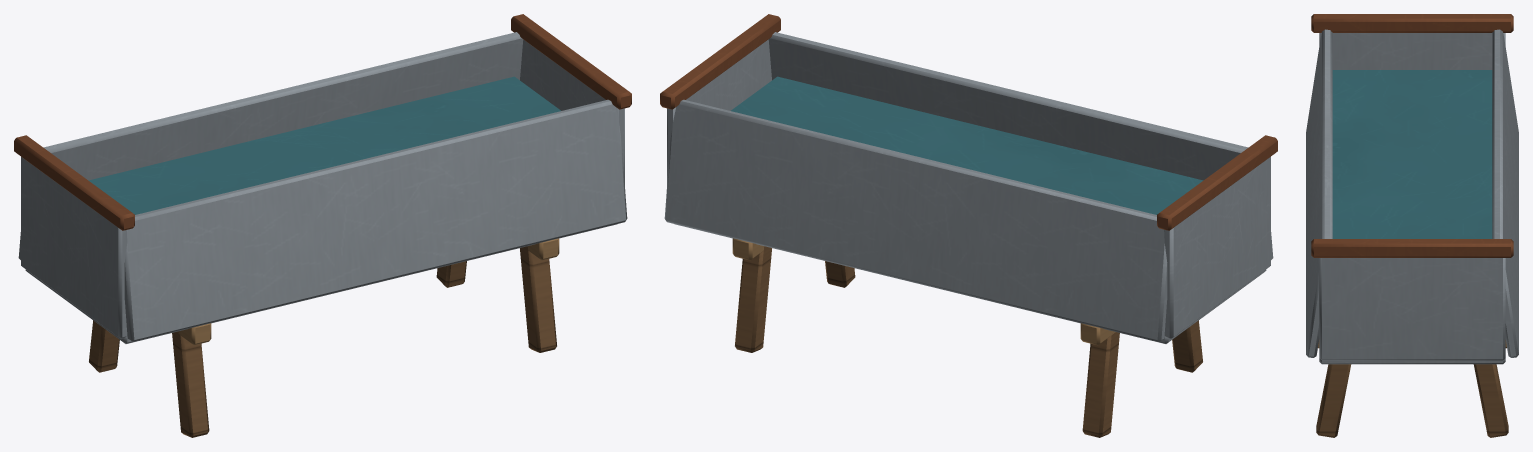
Rendered from water_trough.glb.
The picture shows the model from 3 angles, left to right: view 1: azimuth 30°, elevation 25°; view 2: azimuth 150°, elevation 25°; view 3: azimuth 270°, elevation 25°; orthographic projection. The views are drawn at different scales.
Visible parts, largest first — view 1: water_trough; view 2: water_trough; view 3: water_trough.
Boxes of the visible parts, x1,y1,x2,y2 form: water_trough: (14,14,631,437); water_trough: (660,14,1277,437); water_trough: (1306,14,1518,437).
Size of the model in its own units: 2.06 by 0.9414 by 0.7995.
5 materials, 5 textured.
